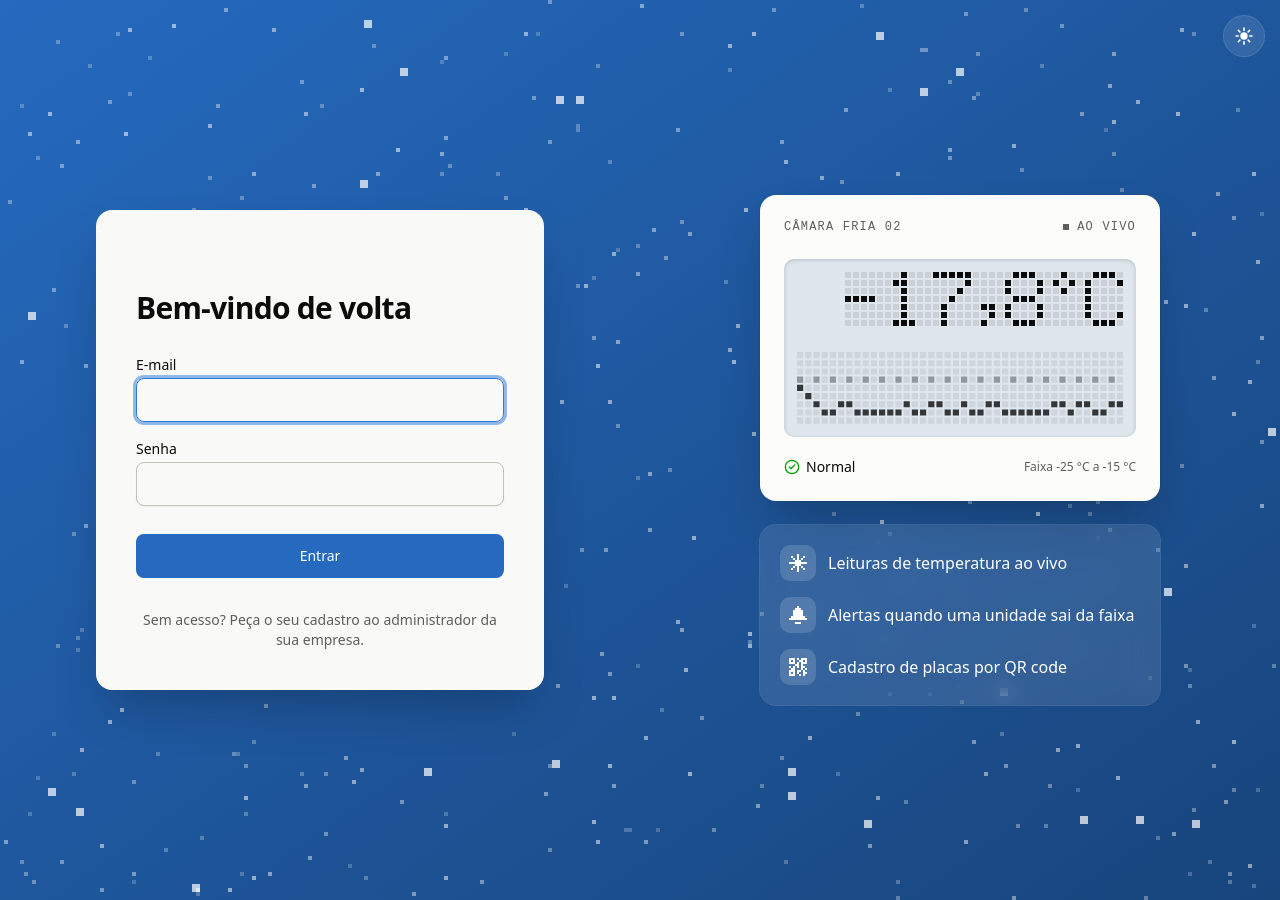
LoginPage › mostra a mensagem da API quando a senha está errada e continua na tela
This screenshot has width=1280, height=900.
Type "ana@teste.com" into the field labelled "E-mail" at coordinates (320, 400), box [136,378,504,422]
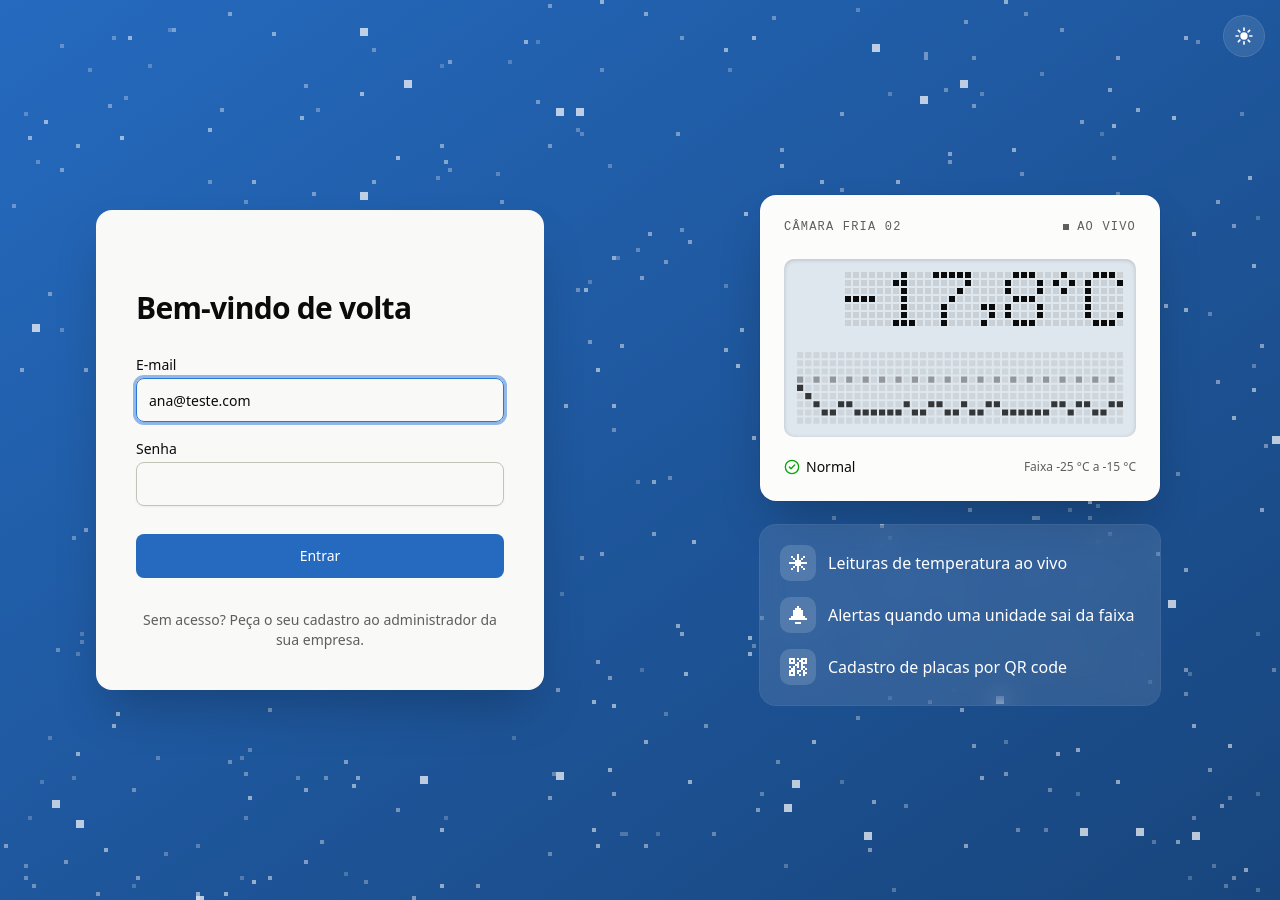
Type "errada" into the password field labelled "Senha" at coordinates (320, 484), box [136,462,504,506]
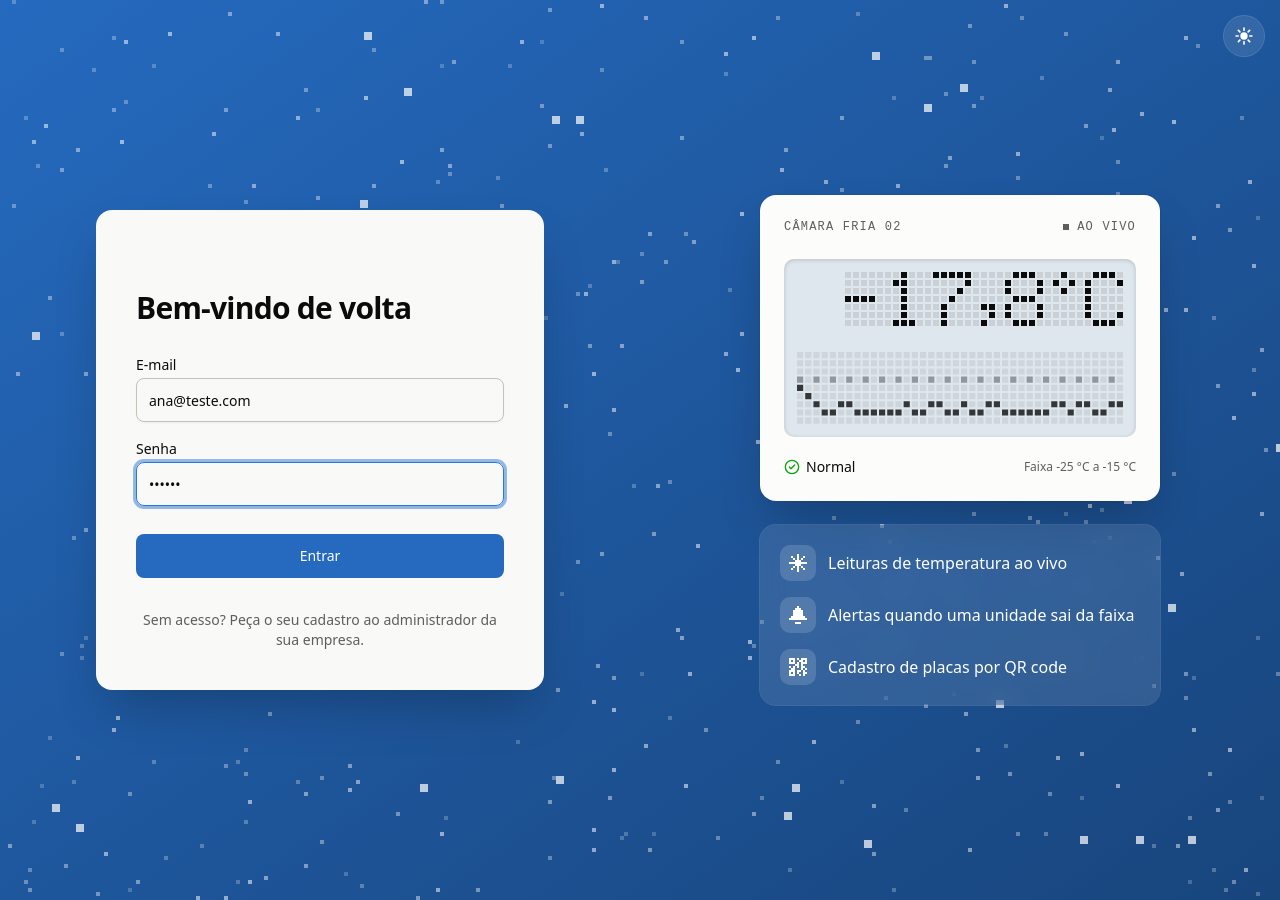
Click the button "Entrar" at coordinates (320, 556), box [136,534,504,578]
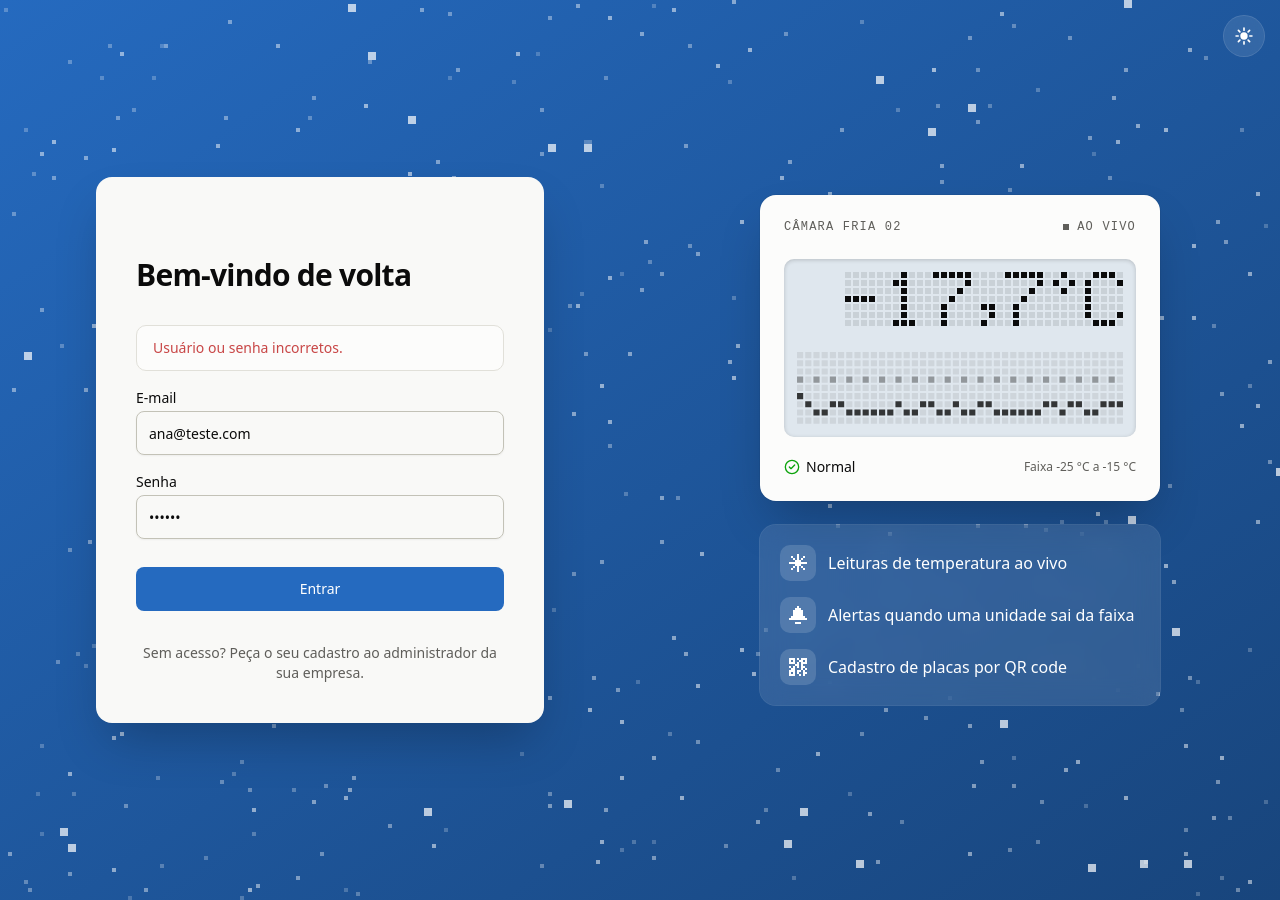
expect the button "Entrar" is enabled: met, box [136,567,504,611]
expect the text "Usuário ou senha incorretos." is shown: met, box [153,338,343,357]
